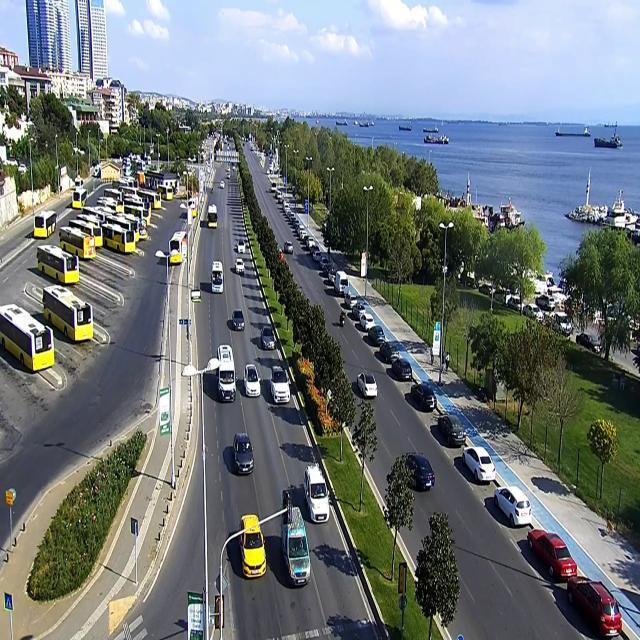bus: (0, 304, 55, 371), (42, 288, 94, 341), (38, 245, 80, 284), (59, 226, 95, 259), (103, 224, 136, 253), (34, 211, 58, 238), (169, 231, 188, 264), (82, 206, 108, 222), (71, 188, 88, 208), (208, 204, 218, 227)
car: (568, 576, 622, 636), (528, 529, 578, 579), (282, 506, 311, 586), (240, 514, 266, 578), (304, 465, 330, 522), (494, 486, 531, 526), (462, 446, 496, 482), (406, 454, 435, 489), (232, 432, 254, 475), (438, 415, 466, 446), (270, 366, 290, 404), (410, 384, 436, 410), (379, 340, 406, 363), (244, 364, 261, 397), (356, 372, 376, 398), (390, 358, 412, 381), (211, 260, 224, 293), (366, 325, 386, 346), (260, 326, 274, 349), (229, 310, 244, 331), (359, 312, 375, 331), (234, 258, 245, 274)
minivan: (218, 345, 235, 401)
